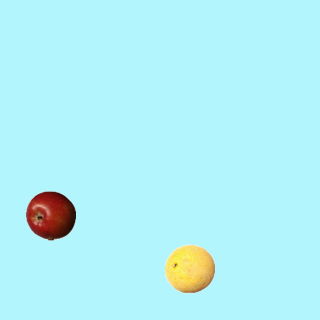Apple Braeburn: (25, 190, 75, 240)
Cantaloupe 1: (164, 243, 214, 293)
